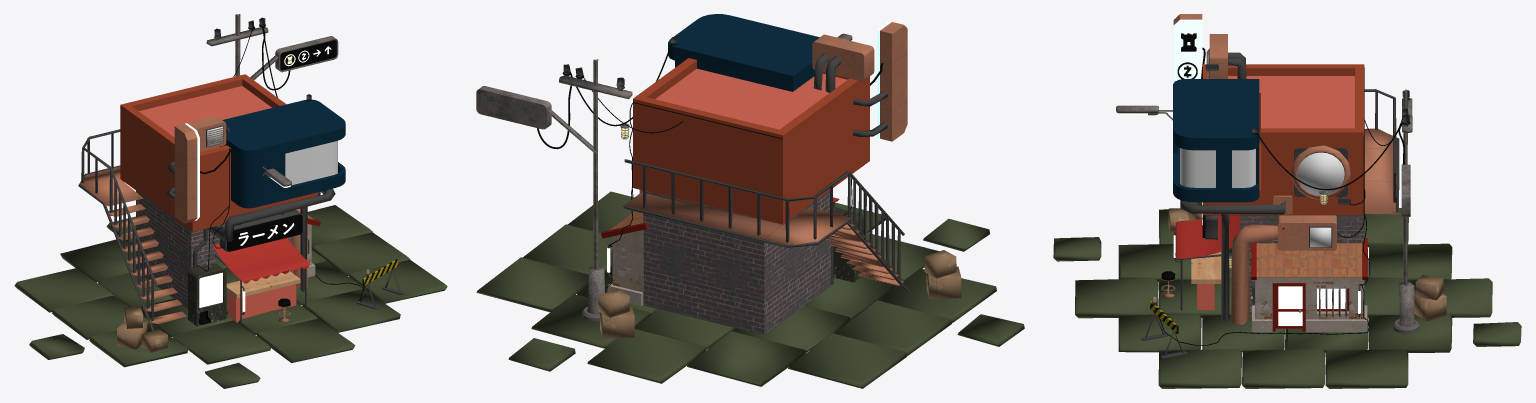
The model's file is ramenshop.glb.
The picture shows the model from 3 angles, left to right: view 1: azimuth 30°, elevation 25°; view 2: azimuth 150°, elevation 25°; view 3: azimuth 270°, elevation 25°; orthographic projection. The views are drawn at different scales.
Visible parts, largest first — view 1: Plane, Plane.002, Cube, Plane.001, Plane.027, Plane.003, Cube.003, Plane.011, Plane.007, Cube.016, Plane.040, Plane.006 (+14 smaller); view 2: Plane, Plane.002, Plane.001, Cube, Plane.027, Plane.010, Cube.003, Plane.012, Plane.035, Plane.011, Plane.004, Vert.010 (+9 smaller); view 3: Plane, Plane.002, Cube, Plane.017, Plane.004, Plane.010, Cube.016, Vert, Plane.019, Plane.003, Plane.005, Circle.001 (+19 smaller).
Boxes of the visible parts, x1=… form: Plane: x1=14, y1=205, x2=447, y2=388; Plane.002: x1=120, y1=74, x2=317, y2=231; Cube: x1=219, y1=99, x2=345, y2=208; Plane.001: x1=136, y1=190, x2=292, y2=308; Plane.027: x1=78, y1=129, x2=157, y2=330; Plane.003: x1=213, y1=238, x2=309, y2=283; Cube.003: x1=174, y1=124, x2=197, y2=223; Plane.011: x1=108, y1=204, x2=186, y2=323; Plane.007: x1=188, y1=263, x2=226, y2=326; Cube.016: x1=285, y1=140, x2=337, y2=184; Plane.040: x1=227, y1=214, x2=302, y2=251; Plane.006: x1=228, y1=284, x2=296, y2=322; Plane: x1=476, y1=191, x2=1024, y2=388; Plane.002: x1=633, y1=58, x2=869, y2=224; Plane.001: x1=643, y1=190, x2=830, y2=334; Cube: x1=668, y1=14, x2=819, y2=91; Plane.027: x1=624, y1=159, x2=908, y2=291; Plane.010: x1=622, y1=192, x2=852, y2=246; Cube.003: x1=880, y1=22, x2=907, y2=141; Plane.012: x1=476, y1=86, x2=551, y2=129; Plane.035: x1=812, y1=34, x2=874, y2=81; Plane.011: x1=826, y1=221, x2=904, y2=286; Plane.004: x1=612, y1=230, x2=643, y2=304; Vert.010: x1=548, y1=59, x2=598, y2=269; Plane: x1=1053, y1=208, x2=1521, y2=388; Plane.002: x1=1202, y1=64, x2=1364, y2=215; Cube: x1=1173, y1=79, x2=1259, y2=202; Plane.017: x1=1256, y1=243, x2=1362, y2=277; Plane.004: x1=1255, y1=277, x2=1364, y2=319; Plane.010: x1=1364, y1=128, x2=1398, y2=214; Cube.016: x1=1180, y1=148, x2=1255, y2=187; Vert: x1=1231, y1=224, x2=1277, y2=324; Plane.019: x1=1275, y1=286, x2=1348, y2=328; Plane.003: x1=1175, y1=215, x2=1240, y2=260; Plane.005: x1=1277, y1=215, x2=1336, y2=250; Circle.001: x1=1297, y1=152, x2=1344, y2=195.
Size of what is drawn, in the model's own units: 14.18 by 7.97 by 13.78.
31 materials, 11 textured.
